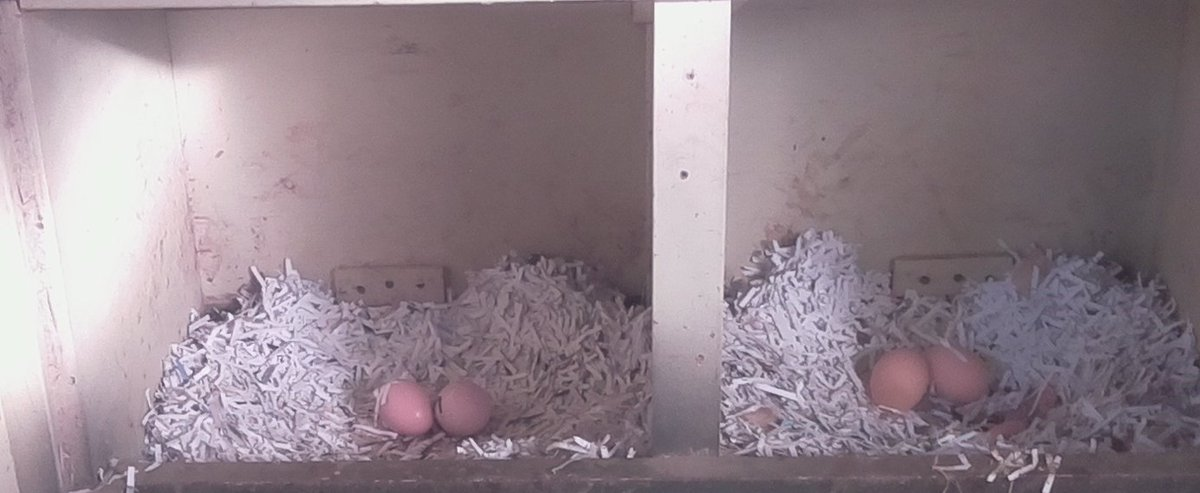egg: (363, 373, 443, 444), (864, 346, 934, 417), (929, 344, 1002, 405), (433, 381, 498, 437)
